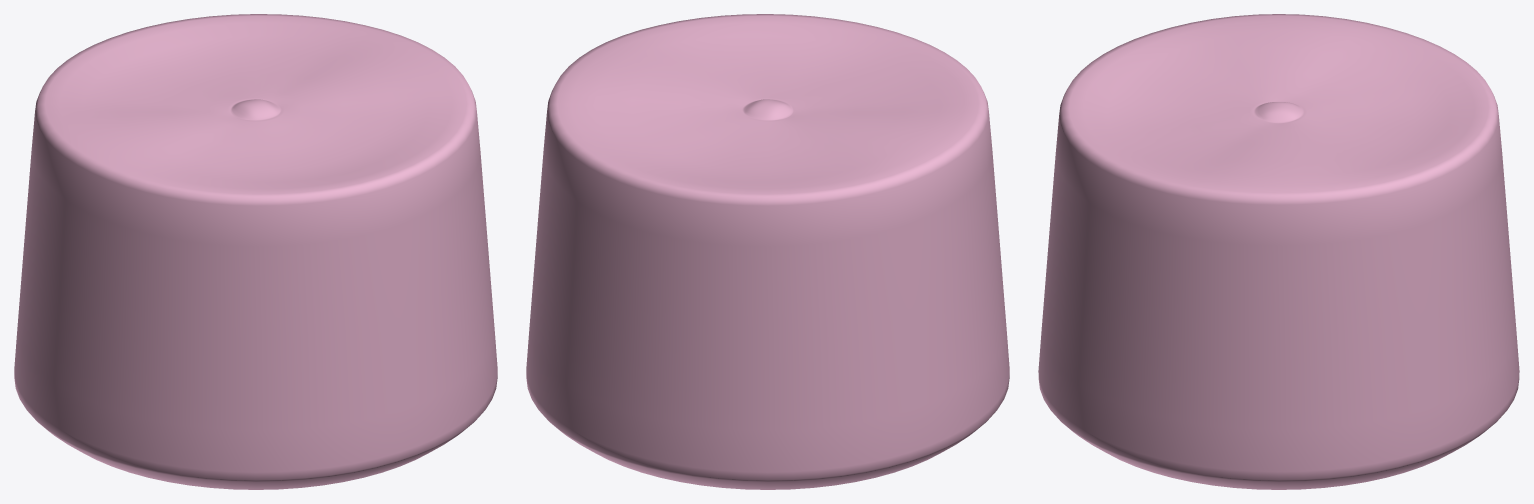
The model's file is MSH_Roof2_OtomanRosa.fbx.
The picture shows the model from 3 angles, left to right: view 1: azimuth 30°, elevation 25°; view 2: azimuth 150°, elevation 25°; view 3: azimuth 270°, elevation 25°; orthographic projection.
Visible parts, largest first — view 1: MSH_Roof2_OtomanRosa; view 2: MSH_Roof2_OtomanRosa; view 3: MSH_Roof2_OtomanRosa.
Part boxes in pixels (box(x1,y1,x2,y2)): MSH_Roof2_OtomanRosa: box(14, 14, 497, 489); MSH_Roof2_OtomanRosa: box(526, 14, 1009, 489); MSH_Roof2_OtomanRosa: box(1038, 14, 1519, 489).
Bounding box in the file's own units: 45.75 × 32.84 × 45.75.
